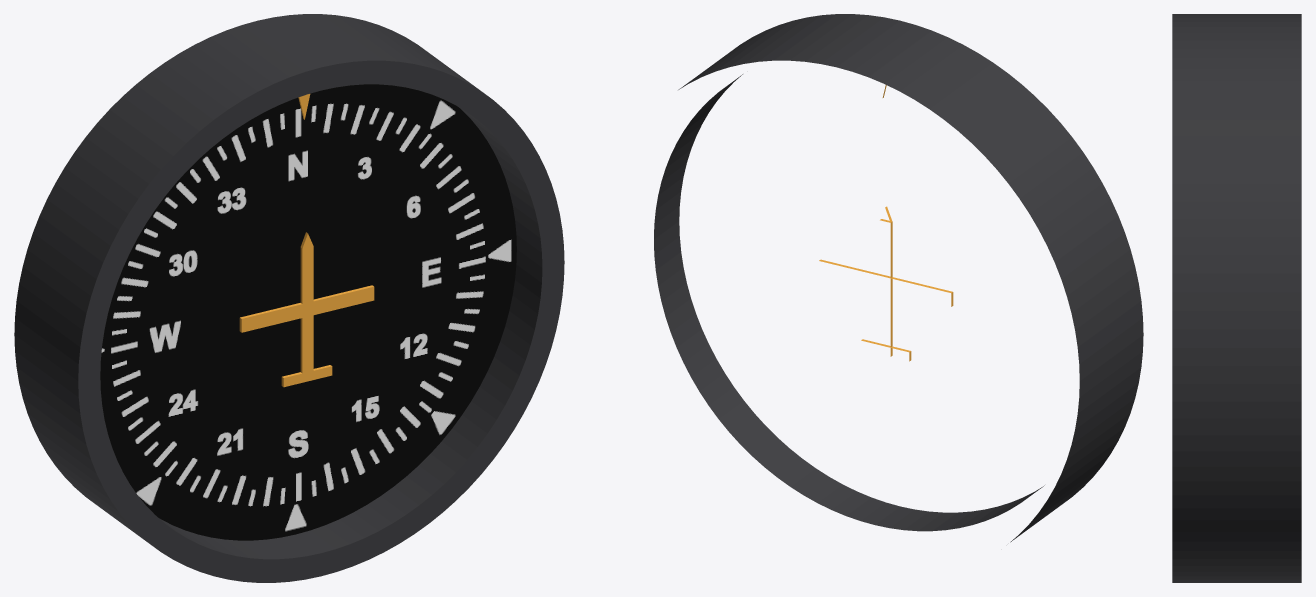
File: heading.glb
3 views of the same model, side by side, from view 1: azimuth 30°, elevation 25°; view 2: azimuth 150°, elevation 25°; view 3: azimuth 270°, elevation 25° (orthographic).
Visible parts, largest first — view 1: DG_Card, DG_Bezel, DG_Face, DG_Airplane; view 2: DG_Bezel, DG_Airplane; view 3: DG_Bezel.
Part boxes in pixels (x1,y1,x2,y2): DG_Card: (108,101,488,509); DG_Bezel: (14,14,564,582); DG_Face: (100,84,516,540); DG_Airplane: (239,232,374,387); DG_Bezel: (654,14,1143,542); DG_Airplane: (819,206,953,361); DG_Bezel: (1172,14,1301,582).
Bounding box in the file's own units: 2.2 × 2.2 × 0.5.
Materials: 4 (2 with a texture image).
